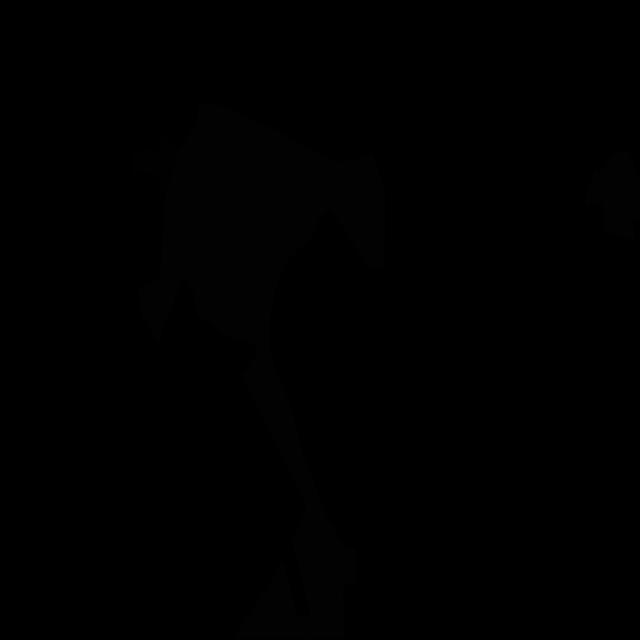cardboard: (138, 103, 385, 397), (240, 355, 357, 639), (234, 561, 315, 639), (601, 151, 640, 240), (584, 167, 606, 205)
rigid_plastic: (132, 134, 178, 195)
